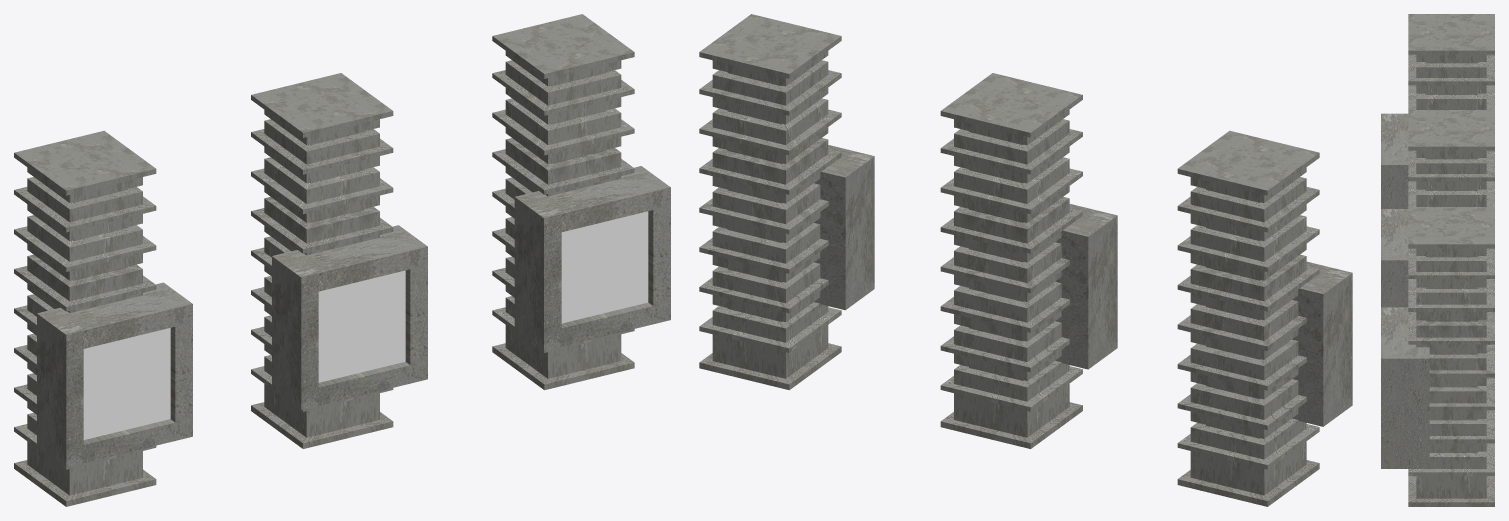
The model's file is Pilares_Cuarto_Secreto.glb.
3 views of the same model, side by side, from view 1: azimuth 30°, elevation 25°; view 2: azimuth 150°, elevation 25°; view 3: azimuth 270°, elevation 25° (orthographic). The views are drawn at different scales.
Parts seen in each view (by area): view 1: Pilares_Cuarto_Secretp, Panel_#, Panel_2, Panel_1; view 2: Pilares_Cuarto_Secretp; view 3: Pilares_Cuarto_Secretp.
Part boxes in pixels (x1,y1,x2,y2): Pilares_Cuarto_Secretp: (14, 14, 670, 506); Panel_#: (561, 211, 648, 323); Panel_2: (318, 270, 405, 382); Panel_1: (83, 328, 170, 439); Pilares_Cuarto_Secretp: (699, 14, 1352, 506); Pilares_Cuarto_Secretp: (1381, 14, 1494, 506).
Bounding box in the file's own units: 3.74 × 1.87 × 0.7345.
2 materials, 1 textured.
